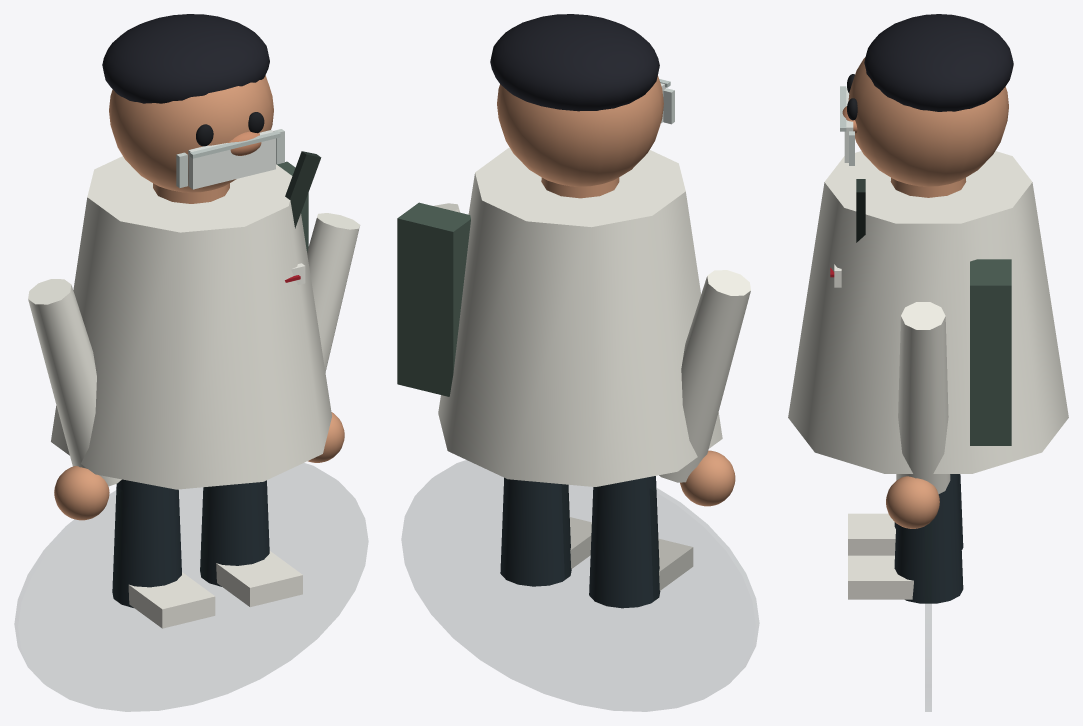
Rendered from player_male_white_mask.glb.
The picture shows the model from 3 angles, left to right: view 1: azimuth 30°, elevation 25°; view 2: azimuth 150°, elevation 25°; view 3: azimuth 270°, elevation 25°; orthographic projection. The views are drawn at different scales.
Parts seen in each view (by area): view 1: torso, contact_shadow, hair_cap, head, arm_-0.255, leg_-0.095, leg_0.095, arm_0.255, shoe_-0.095, shoe_0.095, medical_mask, hand_-0.255 (+4 smaller); view 2: torso, contact_shadow, hair_cap, shoulder_bag, head, leg_-0.095, arm_-0.255, leg_0.095, hand_-0.255, shoe_-0.095, shoe_0.095, neck; view 3: torso, hair_cap, head, arm_0.255, shoulder_bag, leg_0.095, shoe_0.095, hand_0.255, shoe_-0.095, contact_shadow, neck, bag_strap.
Part boxes in pixels (box(x1,y1,x2,y2)): torso: box(51, 156, 331, 489); contact_shadow: box(15, 463, 367, 711); hair_cap: box(102, 14, 269, 103); head: box(109, 75, 273, 192); arm_-0.255: box(28, 279, 121, 486); leg_-0.095: box(112, 479, 181, 607); leg_0.095: box(200, 480, 269, 586); arm_0.255: box(307, 213, 359, 372); shoe_-0.095: box(128, 572, 215, 628); shoe_0.095: box(216, 551, 302, 607); medical_mask: box(188, 130, 275, 189); hand_-0.255: box(54, 466, 109, 520); torso: box(438, 148, 722, 486); contact_shadow: box(402, 460, 758, 711); hair_cap: box(490, 14, 659, 111); shoulder_bag: box(397, 202, 470, 396); head: box(497, 75, 663, 186); leg_-0.095: box(589, 476, 660, 608); arm_-0.255: box(659, 270, 750, 482); leg_0.095: box(500, 477, 571, 586); hand_-0.255: box(680, 450, 735, 506); shoe_-0.095: box(658, 538, 693, 590); shoe_0.095: box(569, 517, 591, 568); neck: box(541, 177, 619, 198); torso: box(788, 151, 1068, 473); hair_cap: box(864, 14, 1013, 111); head: box(848, 57, 1008, 186); arm_0.255: box(896, 302, 950, 494); shoulder_bag: box(970, 259, 1011, 445); leg_0.095: box(894, 474, 963, 603); shoe_0.095: box(848, 555, 913, 599); hand_0.255: box(886, 476, 939, 528); shoe_-0.095: box(848, 513, 895, 555); contact_shadow: box(925, 522, 931, 711); neck: box(890, 177, 966, 197); bag_strap: box(856, 179, 865, 242).
Size of the model in its own units: 0.7904 by 1.45 by 0.5616.
